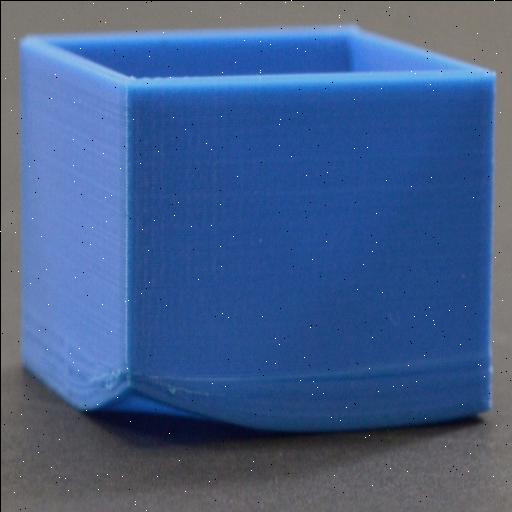cracks: (62, 352, 233, 428)
